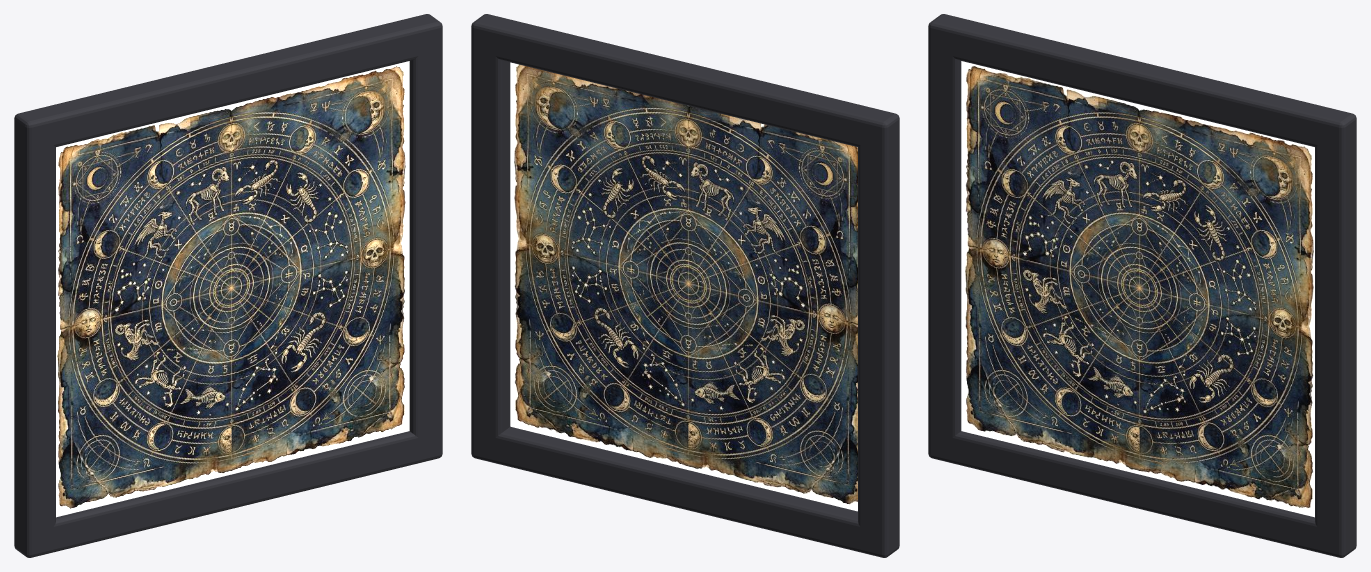
File: art_star_chart.glb
3 views of the same model, side by side, from view 1: azimuth 30°, elevation 25°; view 2: azimuth 150°, elevation 25°; view 3: azimuth 330°, elevation 25° (orthographic).
Parts seen in each view (by area): view 1: GD_art_star_chart__m0, GD_art_star_chart__m1; view 2: GD_art_star_chart__m0, GD_art_star_chart__m1; view 3: GD_art_star_chart__m0, GD_art_star_chart__m1.
Part boxes in pixels (<box>): GD_art_star_chart__m0: <box>56,61,409,517</box>; GD_art_star_chart__m1: <box>14,14,442,557</box>; GD_art_star_chart__m0: <box>510,62,857,511</box>; GD_art_star_chart__m1: <box>471,14,899,557</box>; GD_art_star_chart__m0: <box>961,61,1314,517</box>; GD_art_star_chart__m1: <box>928,14,1356,557</box>.
Bounding box in the file's own units: 0.96 × 0.96 × 0.06.
Materials: 2 (1 with a texture image).
